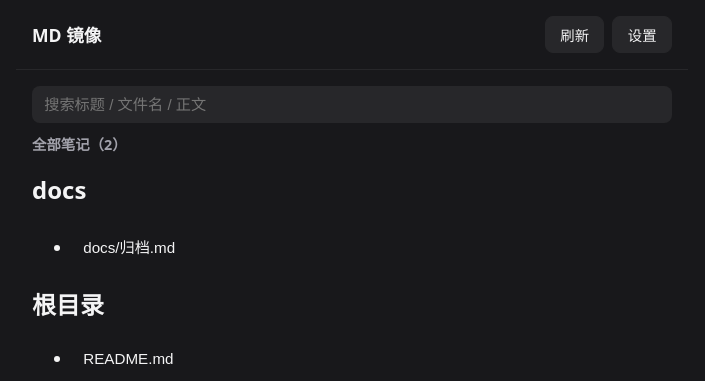
Scenario: 首页全局搜索（集成） › 正文命中 → 带「正文」标签与摘录，不含标题标签
Type "下雨" into the search field with class "search-input".
click(352, 105); type("下雨")  # box [32,86,672,123]
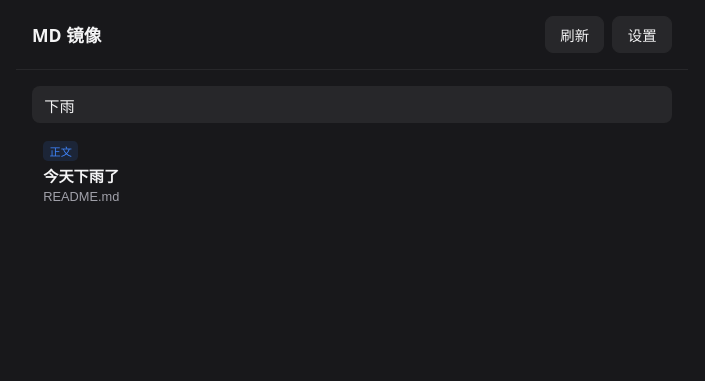
Check: the text "正文" is shown, box [43,141,78,161]
Check: the text "今天下雨了" is shown, box [43,164,119,186]
Check: the text "docs/归档.md" is gone
